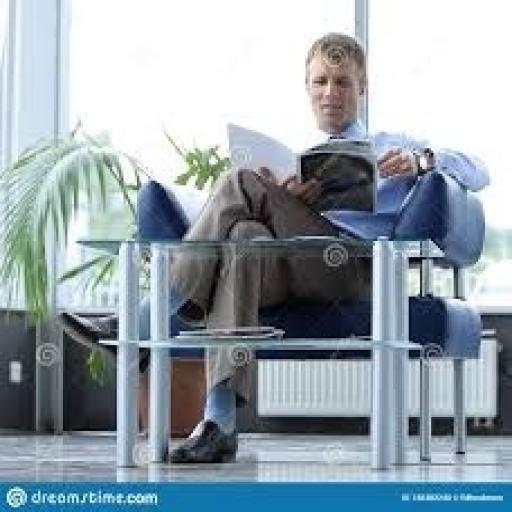sitting: (56, 30, 490, 466)
